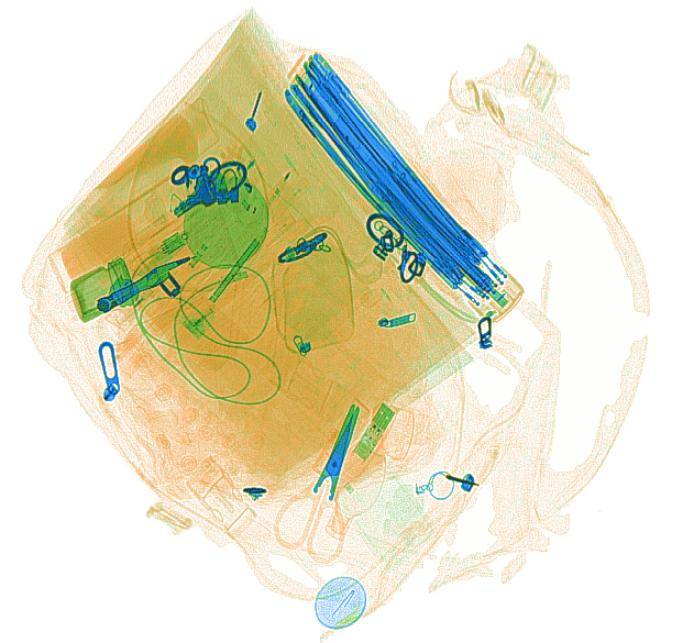USBFlashDisk: (345, 401, 395, 468)
scissors: (273, 398, 371, 558)
